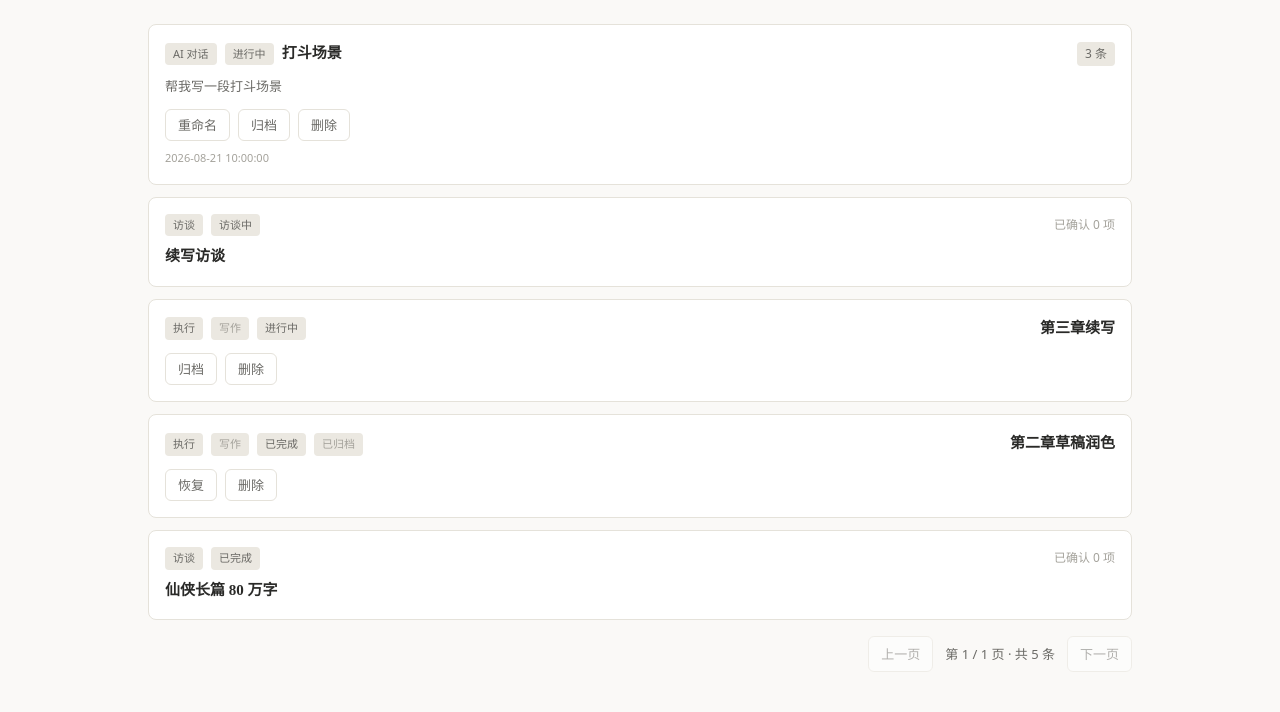
Test: #1015 访谈卡详情弹层（N11，决策点 1 拍板 A） › 点击已完成访谈卡标题 → 弹层懒加载 planner 快照：问答轮次/确认项/写作计划行
(page scrolled)
Click the button with test id "session-title-pl-done" at (221,590), box [165, 578, 278, 603]
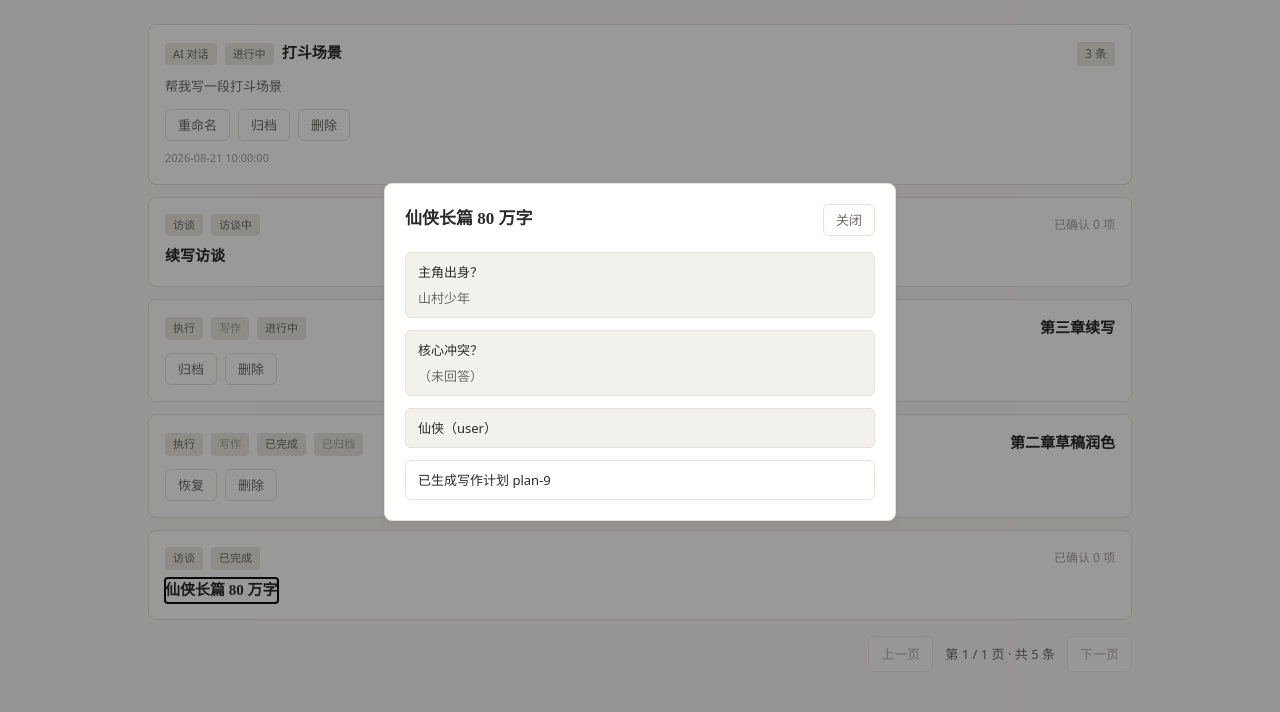
Expected: the dialog with test id "session-detail-dialog" is shown, [384, 183, 896, 521]
Expected: the element with test id "session-detail-qa-q1" shows "主角出身？", [418, 263, 483, 281]
Expected: the element with test id "session-detail-qa-q1" shows "山村少年", [418, 289, 470, 307]
